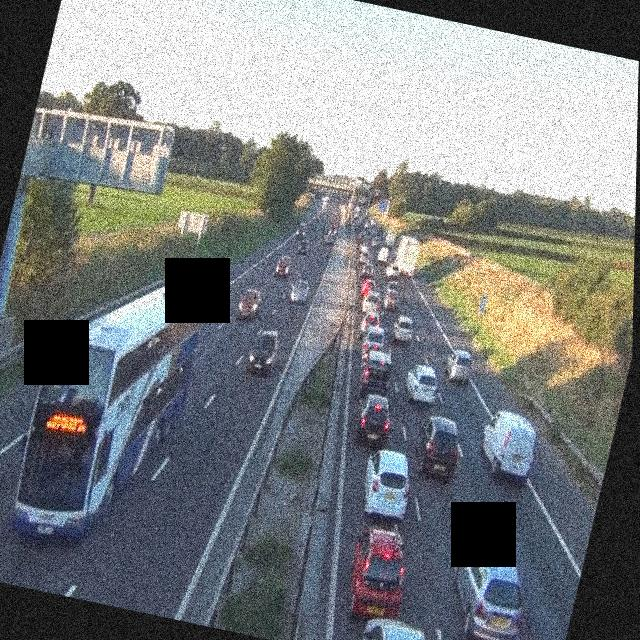bus: (6, 260, 211, 558)
car: (438, 540, 536, 640), (338, 522, 417, 624), (474, 407, 542, 484), (356, 446, 417, 522), (406, 412, 467, 481), (349, 393, 396, 449), (356, 613, 448, 640), (402, 360, 444, 406), (246, 328, 282, 376), (358, 351, 393, 394), (441, 345, 476, 384), (235, 286, 262, 321), (362, 319, 390, 345), (392, 316, 415, 344), (360, 306, 383, 331), (288, 278, 310, 304), (382, 286, 403, 310), (274, 254, 293, 276), (357, 276, 376, 298), (370, 284, 389, 306), (356, 254, 370, 272), (298, 237, 311, 255), (322, 230, 334, 246)
truck: (391, 235, 420, 280), (374, 240, 390, 262)
